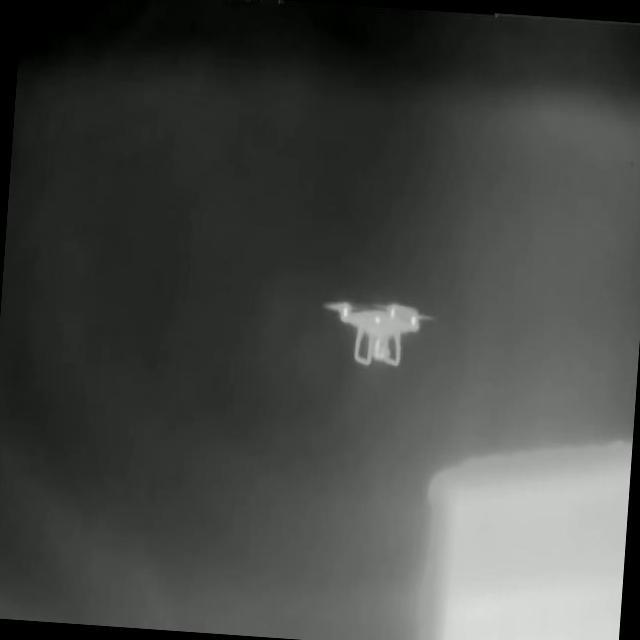DRONE: (315, 297, 437, 367)
